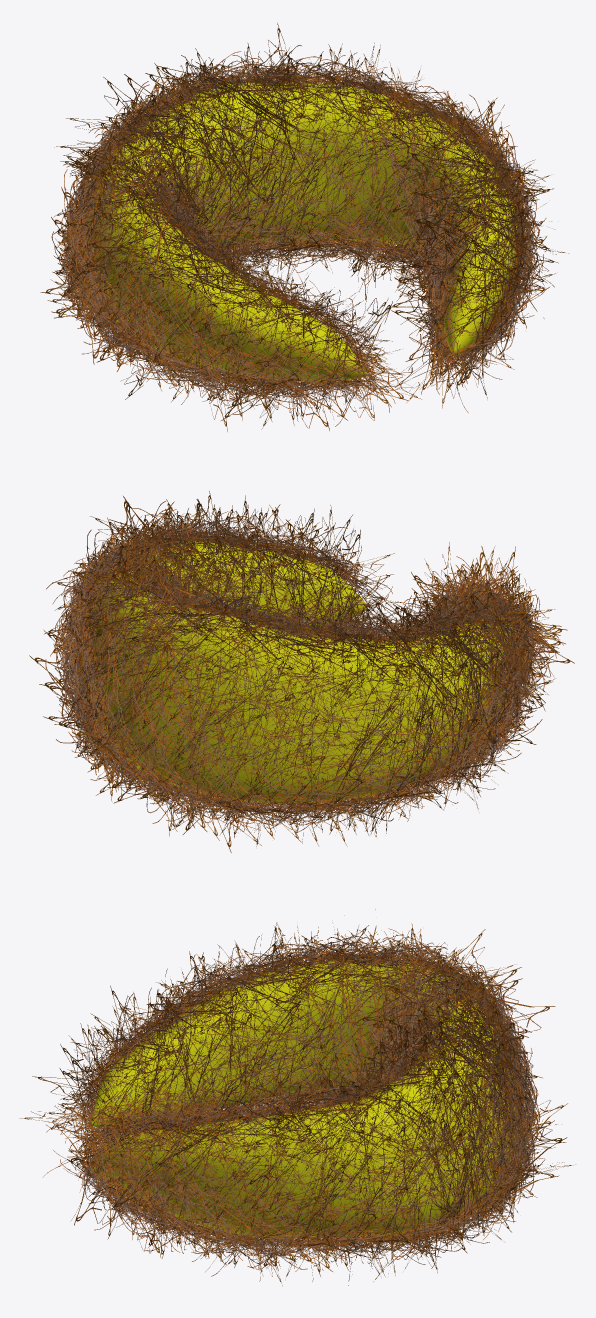
The model's file is Nest_Full.fbx.
3 renders of one model, top to bottom at view 1: azimuth 30°, elevation 25°; view 2: azimuth 150°, elevation 25°; view 3: azimuth 270°, elevation 25°, orthographic.
Visible parts, largest first — view 1: tree_nest_lp; view 2: tree_nest_lp; view 3: tree_nest_lp.
Part boxes in pixels (bbox=[...]): tree_nest_lp: bbox=[40, 23, 568, 431]; tree_nest_lp: bbox=[29, 491, 574, 852]; tree_nest_lp: bbox=[19, 909, 575, 1286].
Bounding box in the file's own units: 20.97 × 21.4 × 11.69.
